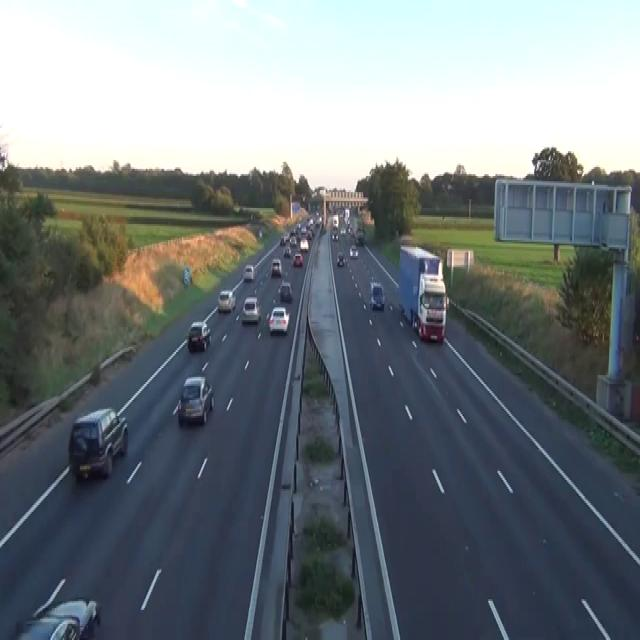Car: (16, 578, 100, 638), (67, 407, 128, 480), (44, 598, 100, 638), (417, 274, 448, 341), (177, 375, 214, 425), (16, 614, 80, 638), (187, 320, 210, 352), (268, 306, 289, 334), (241, 297, 260, 323), (217, 288, 236, 311), (370, 283, 385, 309), (278, 281, 292, 300), (0, 144, 8, 171), (243, 263, 254, 281), (271, 258, 281, 276), (355, 228, 365, 244), (336, 250, 345, 266), (183, 266, 191, 284), (293, 252, 303, 266), (349, 244, 358, 258), (299, 238, 308, 251), (283, 245, 291, 258), (331, 229, 338, 240), (300, 224, 307, 235), (281, 233, 288, 243), (289, 235, 296, 245), (306, 228, 313, 238), (348, 224, 354, 235), (307, 217, 314, 226), (280, 235, 285, 245), (321, 224, 326, 233), (340, 226, 345, 234), (258, 228, 262, 236)
Truck: (398, 244, 448, 343)
